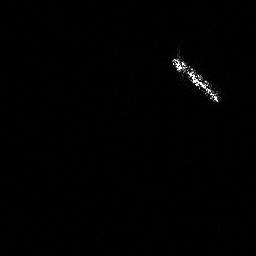ship: (168, 53, 222, 105)
